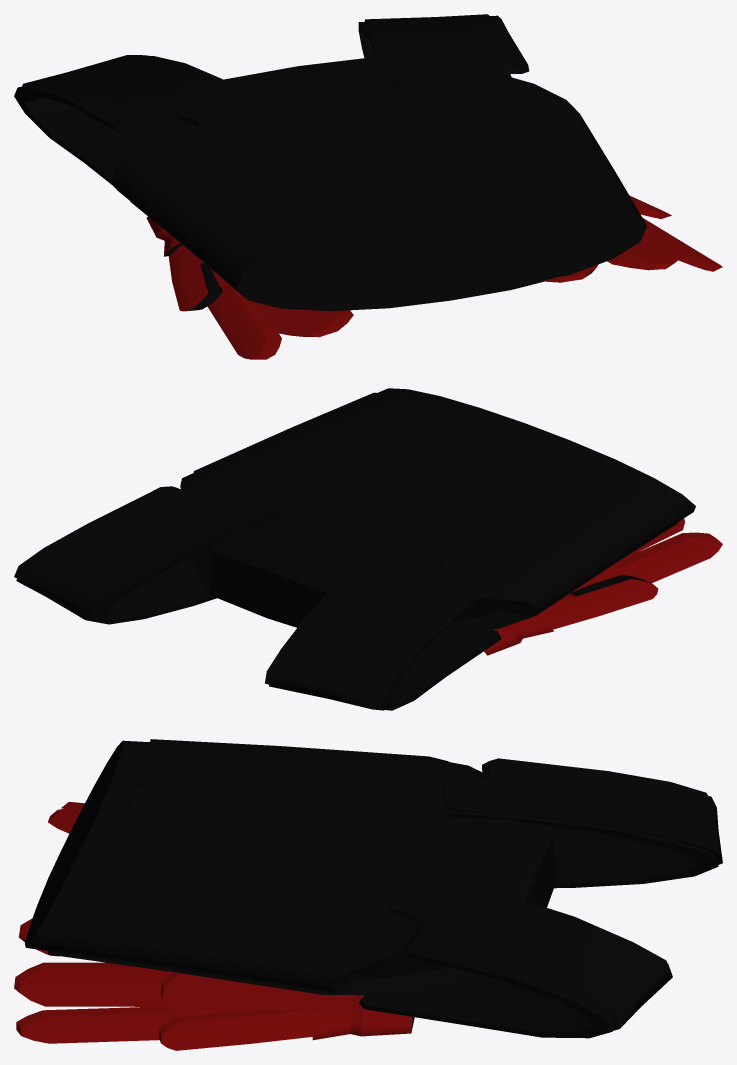
File: SM_FOLDED_ARMOUR.fbx
The picture shows the model from 3 angles, top to bottom: view 1: azimuth 30°, elevation 25°; view 2: azimuth 150°, elevation 25°; view 3: azimuth 270°, elevation 25°; orthographic projection. The views are drawn at different scales.
Visible parts, largest first — view 1: SM_FOLDED_ARMOUR; view 2: SM_FOLDED_ARMOUR; view 3: SM_FOLDED_ARMOUR.
Part boxes in pixels (x1,y1,x2,y2): SM_FOLDED_ARMOUR: (14,14,722,359); SM_FOLDED_ARMOUR: (14,388,722,710); SM_FOLDED_ARMOUR: (14,739,722,1050).
Bounding box in the file's own units: 48.56 × 9.17 × 55.65.
